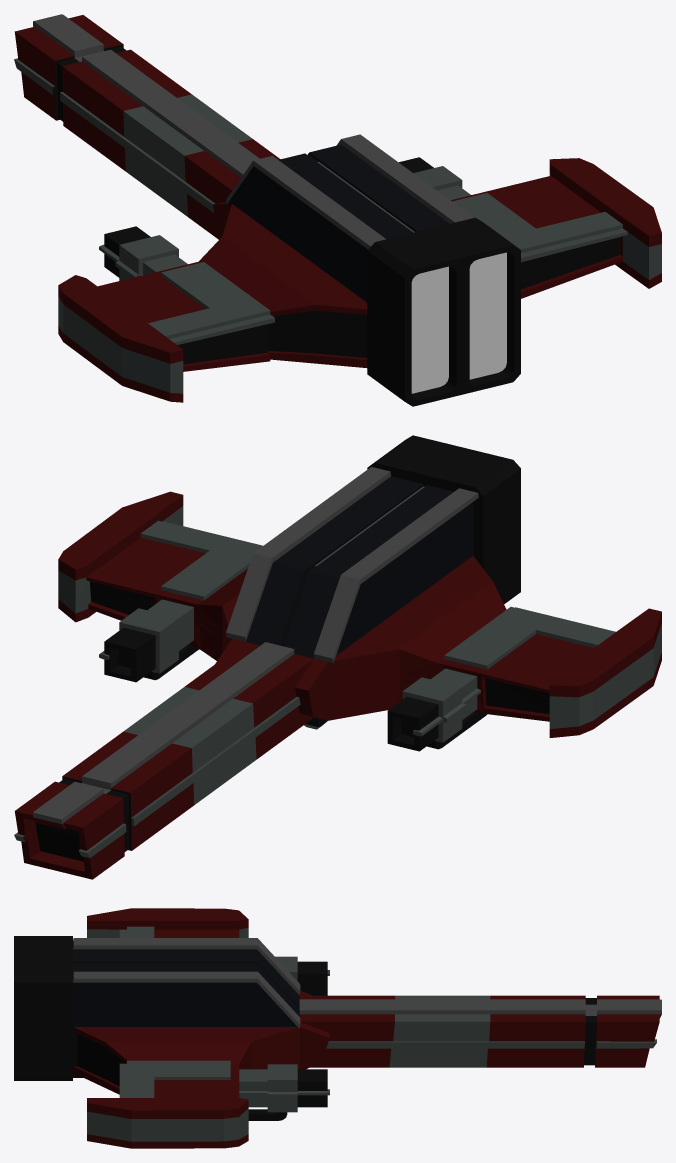
File: spaceship.obj
3 views of the same model, one above another, from view 1: azimuth 30°, elevation 25°; view 2: azimuth 150°, elevation 25°; view 3: azimuth 270°, elevation 25° (orthographic). The views are drawn at different scales.
Parts seen in each view (by area): view 1: Cube_Metal_body, Cube_Dull_metal/rubber, Cube_Weapons, Cube_Cockpit, Cube_Metal_accent, Cube_Thruster; view 2: Cube_Metal_body, Cube_Weapons, Cube_Dull_metal/rubber, Cube_Cockpit, Cube_Metal_accent; view 3: Cube_Metal_body, Cube_Weapons, Cube_Cockpit, Cube_Dull_metal/rubber, Cube_Metal_accent.
Part boxes in pixels (box(x1,y1,x2,y2)): Cube_Metal_body: box(14, 15, 661, 402); Cube_Dull_metal/rubber: box(52, 44, 620, 406); Cube_Weapons: box(14, 58, 661, 393); Cube_Cockpit: box(227, 144, 449, 302); Cube_Metal_accent: box(33, 14, 473, 249); Cube_Thruster: box(411, 252, 506, 393); Cube_Metal_body: box(14, 491, 661, 879); Cube_Weapons: box(14, 506, 661, 857); Cube_Dull_metal/rubber: box(35, 435, 549, 861); Cube_Cockpit: box(245, 476, 473, 658); Cube_Metal_accent: box(33, 467, 478, 824); Cube_Metal_body: box(73, 908, 661, 1148); Cube_Weapons: box(87, 926, 656, 1141); Cube_Cockpit: box(73, 949, 299, 1026); Cube_Dull_metal/rubber: box(14, 936, 596, 1120); Cube_Metal_accent: box(73, 938, 661, 1028).
Bounding box in the file's own units: 3.45 × 0.9076 × 4.67.
